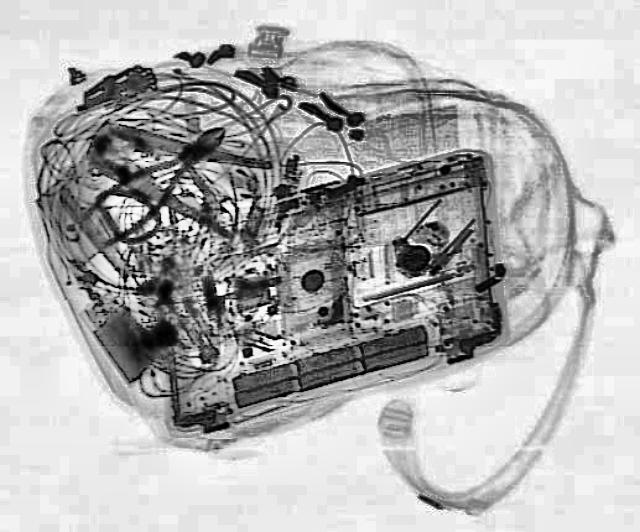Pliers: (63, 98, 285, 240), (62, 112, 246, 252)
